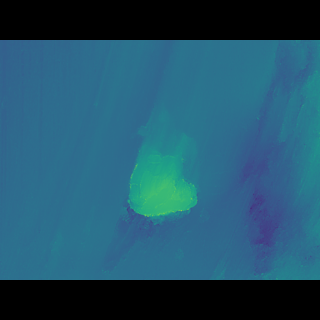Loch: (218, 71, 319, 251), (97, 124, 204, 244)
